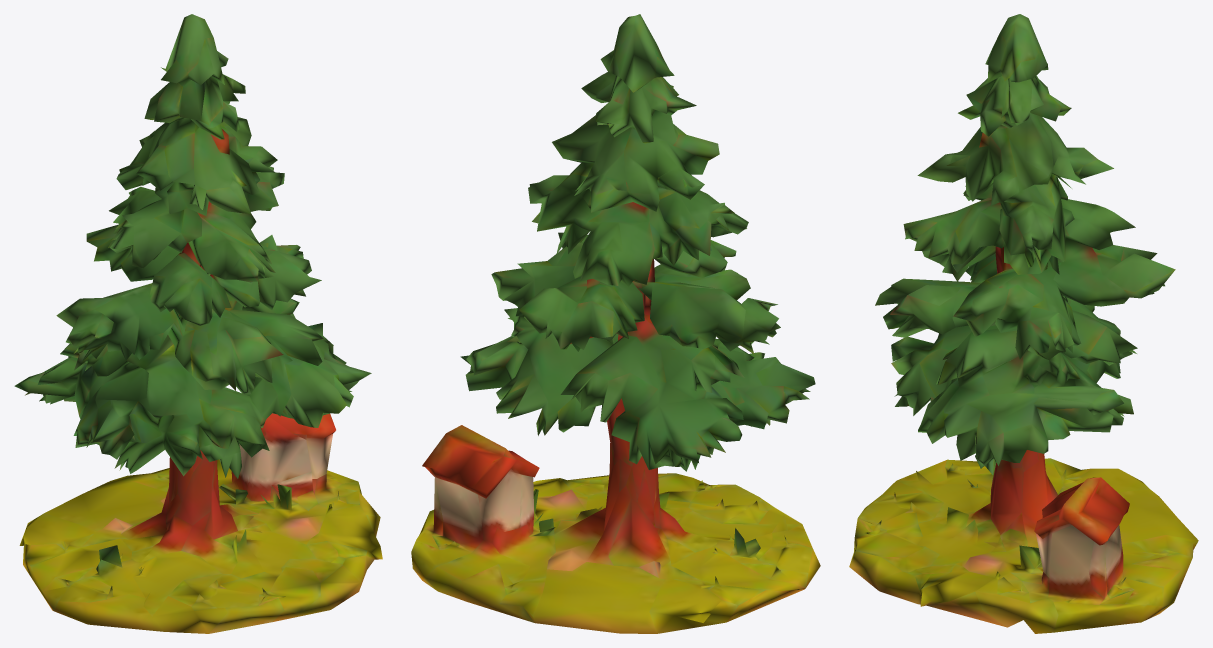
Rendered from pine.glb.
The picture shows the model from 3 angles, left to right: view 1: azimuth 30°, elevation 25°; view 2: azimuth 150°, elevation 25°; view 3: azimuth 270°, elevation 25°; orthographic projection. The views are drawn at different scales.
Parts seen in each view (by area): view 1: tripo_node_2c898830-ce7b-4242-b1a0-8f86477f4bdc; view 2: tripo_node_2c898830-ce7b-4242-b1a0-8f86477f4bdc; view 3: tripo_node_2c898830-ce7b-4242-b1a0-8f86477f4bdc.
Boxes of the visible parts, box(x1,y1,x2,y2) form: tripo_node_2c898830-ce7b-4242-b1a0-8f86477f4bdc: box(14, 14, 382, 633); tripo_node_2c898830-ce7b-4242-b1a0-8f86477f4bdc: box(411, 14, 820, 633); tripo_node_2c898830-ce7b-4242-b1a0-8f86477f4bdc: box(849, 14, 1198, 633).
Size of the model in its own units: 0.643 by 0.9797 by 0.5828.
1 material, 1 textured.
